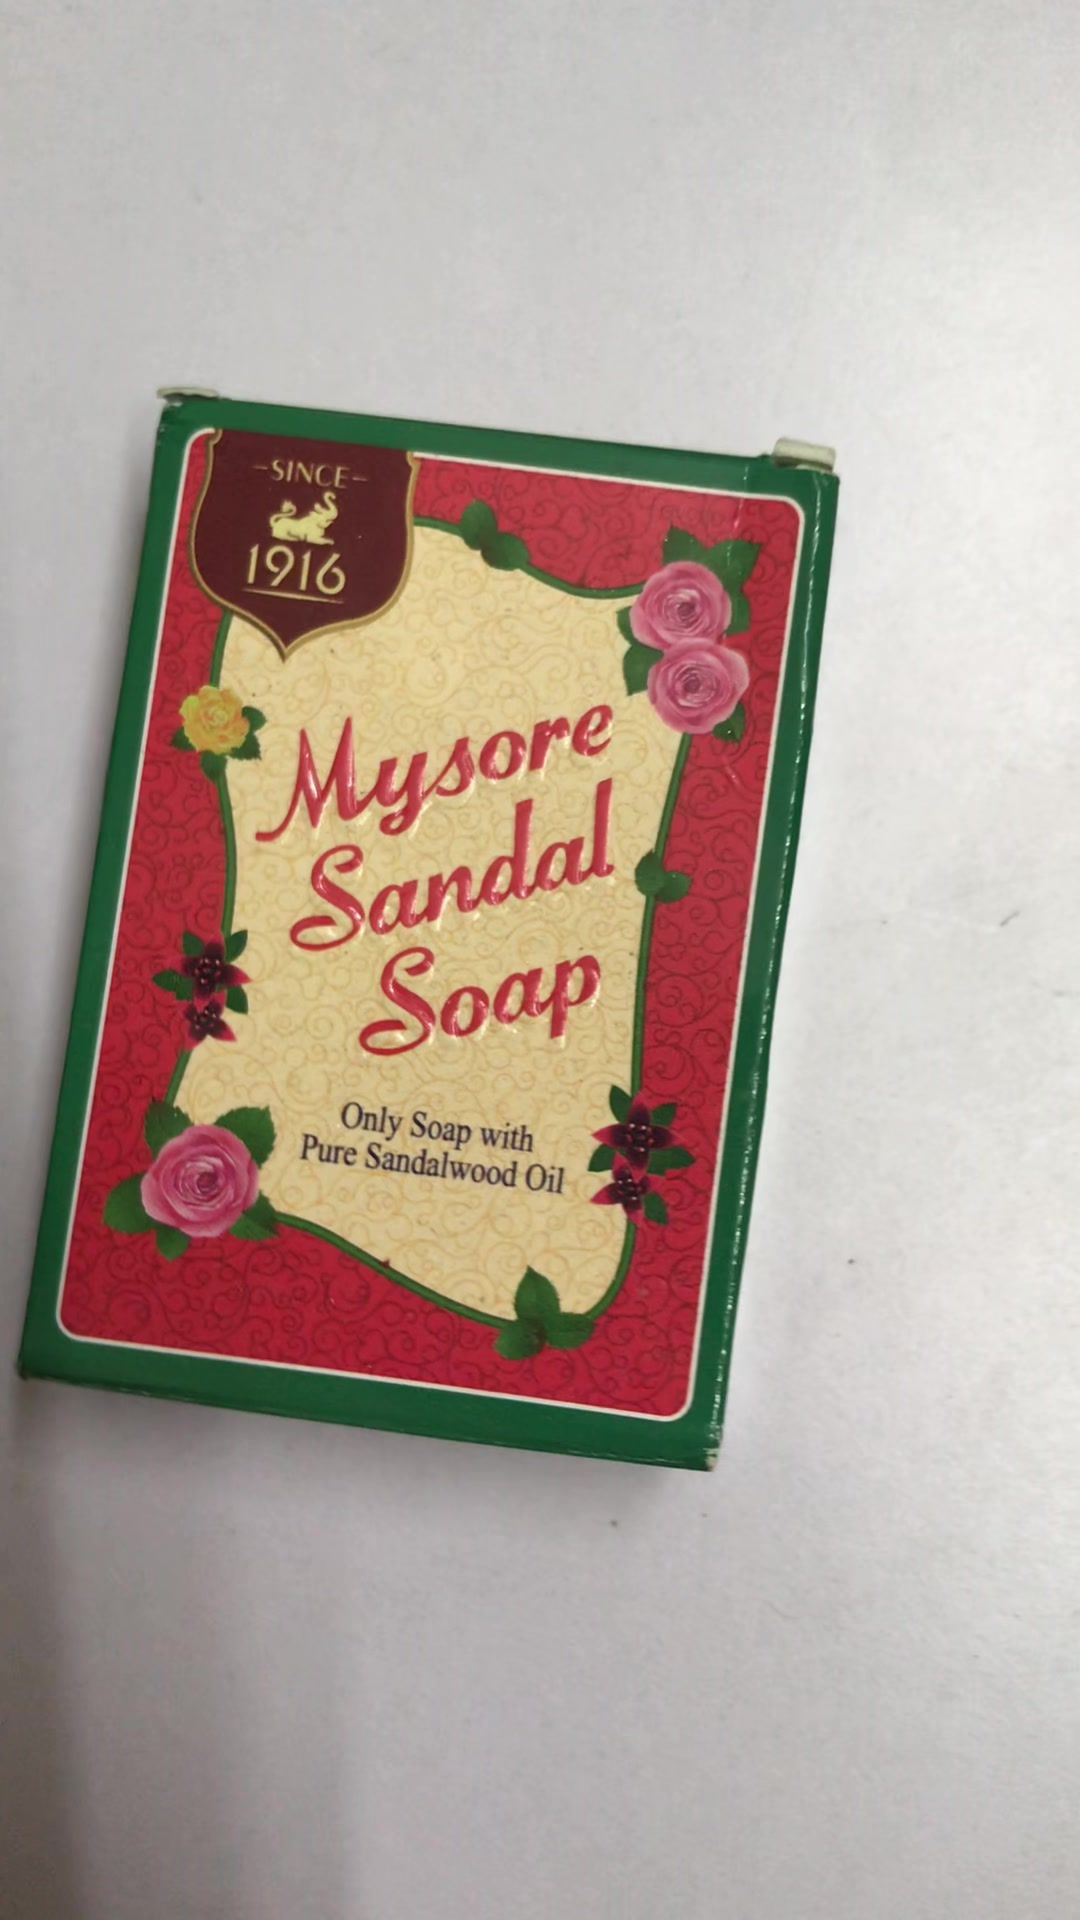mysore sandal soap: (11, 388, 825, 1472)
